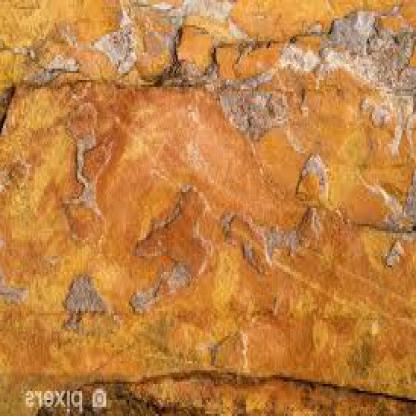Metamorphic_Quartize: (1, 2, 413, 414)
